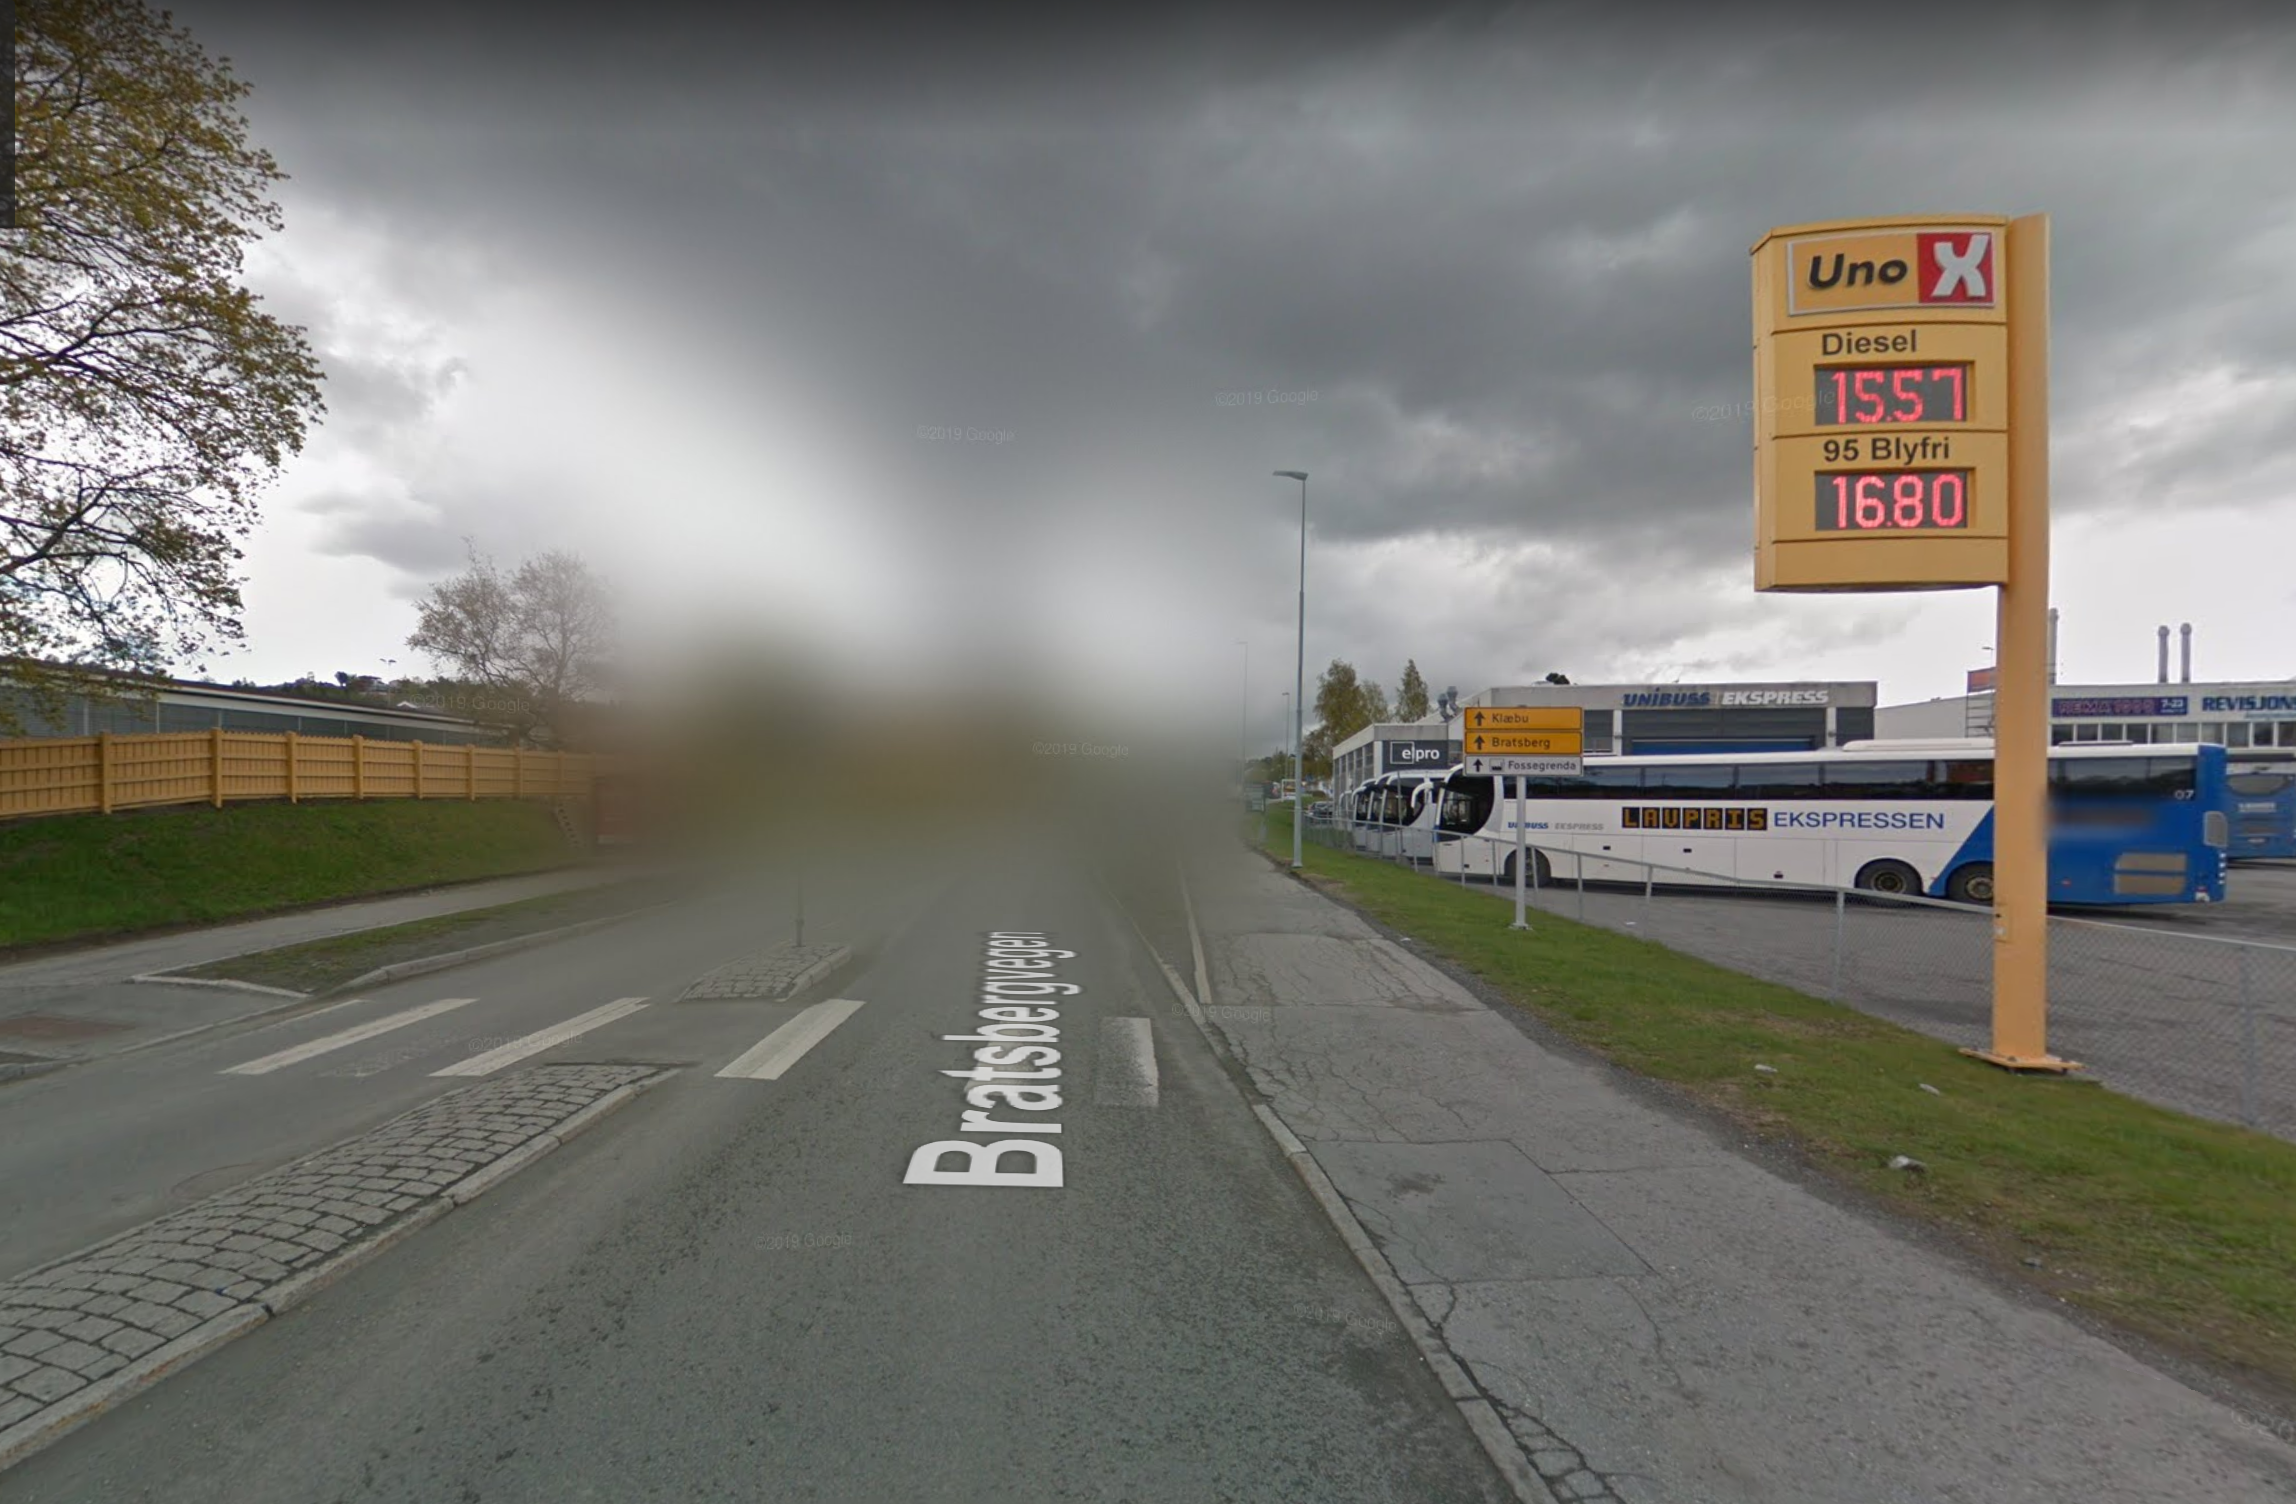fuel: (1751, 223, 2009, 593)
